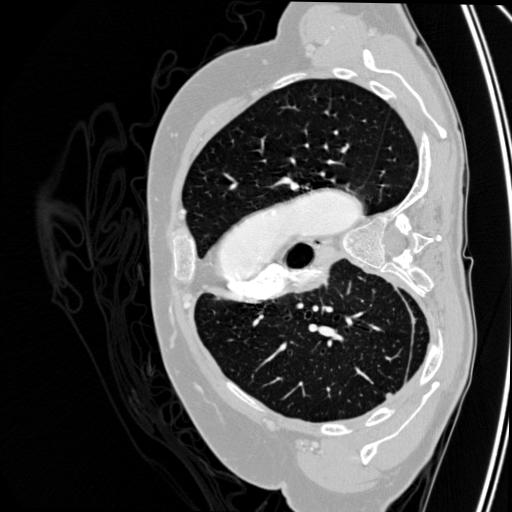nodule: (384, 392, 395, 403)
